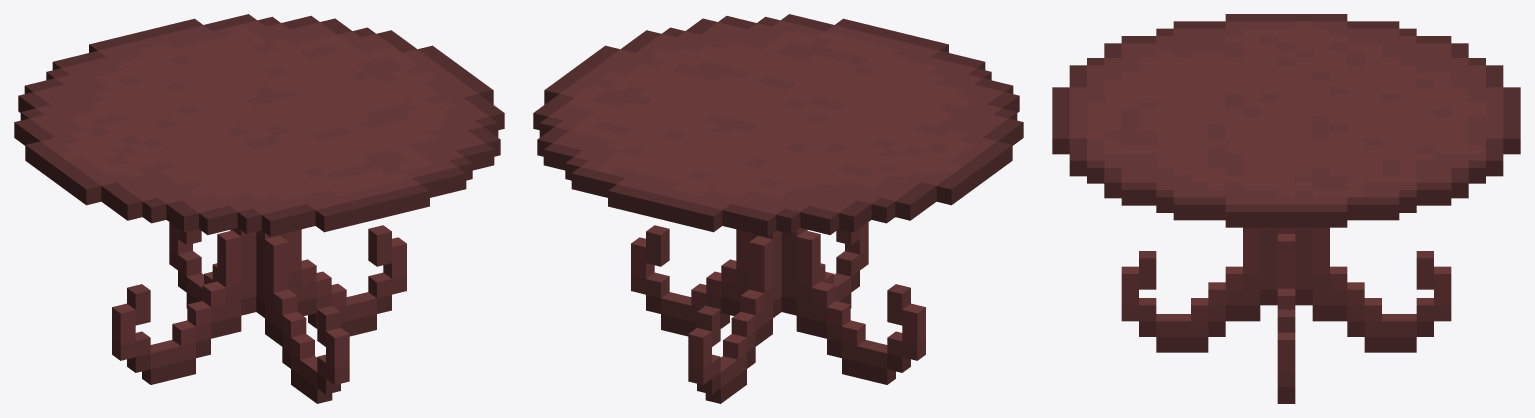
The model's file is Table.obj.
The picture shows the model from 3 angles, left to right: view 1: azimuth 30°, elevation 25°; view 2: azimuth 150°, elevation 25°; view 3: azimuth 270°, elevation 25°; orthographic projection.
Visible parts, largest first — view 1: Table; view 2: Table; view 3: Table.
Part boxes in pixels (x1,y1,x2,y2): Table: (14,14,504,403); Table: (533,14,1023,403); Table: (1052,14,1520,403).
Bounding box in the file's own units: 27 × 15 × 27.
1 material, 1 textured.
